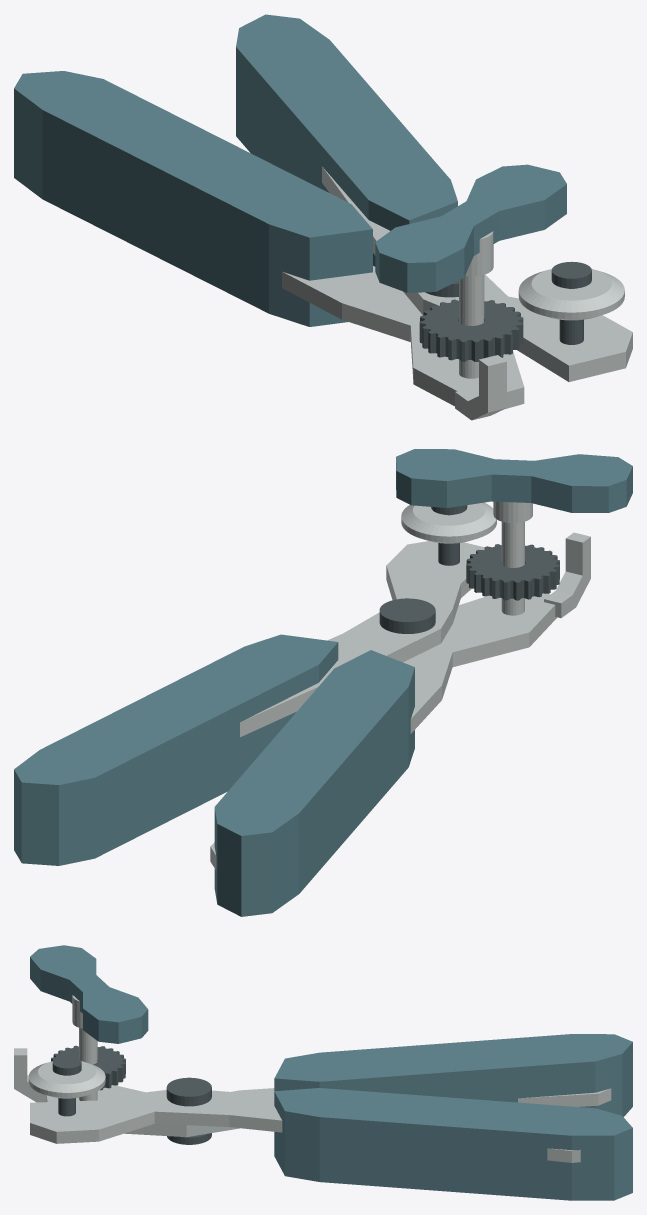
3 renders of one model, top to bottom at view 1: azimuth 30°, elevation 25°; view 2: azimuth 150°, elevation 25°; view 3: azimuth 270°, elevation 25°, orthographic. The views are drawn at different scales.
Visible parts, largest first — view 1: WholeSplayedPaddedGrip_-1, WholeSplayedPaddedGrip_1, WholeTwoLobedButterflyTurningKey, WholeFixedFeedCarrierAndLongTang, WholeMovingDiscCarrierAndLongTang, WholeAnnularScallopedFeedWheel, WholeBluntBeveledAnnularDisc, WholeFeedAxleAndKeyMount, WholeBentFrontRimGuide, WholeDiscRetainedAxle; view 2: WholeSplayedPaddedGrip_1, WholeSplayedPaddedGrip_-1, WholeTwoLobedButterflyTurningKey, WholeMovingDiscCarrierAndLongTang, WholeFixedFeedCarrierAndLongTang, WholeAnnularScallopedFeedWheel, WholeBluntBeveledAnnularDisc, WholeFeedAxleAndKeyMount, WholeBentFrontRimGuide, WholeRetainedMainHinge, WholeDiscRetainedAxle; view 3: WholeSplayedPaddedGrip_1, WholeSplayedPaddedGrip_-1, WholeMovingDiscCarrierAndLongTang, WholeTwoLobedButterflyTurningKey, WholeFixedFeedCarrierAndLongTang, WholeBluntBeveledAnnularDisc, WholeRetainedMainHinge, WholeAnnularScallopedFeedWheel, WholeFeedAxleAndKeyMount, WholeBentFrontRimGuide, WholeDiscRetainedAxle.
Boxes of the visible parts, x1,y1,x2,y2 form: WholeSplayedPaddedGrip_-1: (14,71,372,326); WholeSplayedPaddedGrip_1: (236,14,457,266); WholeTwoLobedButterflyTurningKey: (375,164,566,292); WholeFixedFeedCarrierAndLongTang: (282,266,524,408); WholeMovingDiscCarrierAndLongTang: (322,166,632,381); WholeAnnularScallopedFeedWheel: (419,299,523,361); WholeBluntBeveledAnnularDisc: (518,268,624,320); WholeFeedAxleAndKeyMount: (459,231,493,378); WholeBentFrontRimGuide: (455,355,506,420); WholeDiscRetainedAxle: (551,261,591,344); WholeSplayedPaddedGrip_1: (14,634,338,865); WholeSplayedPaddedGrip_-1: (214,650,414,916); WholeTwoLobedButterflyTurningKey: (396,449,632,512); WholeMovingDiscCarrierAndLongTang: (240,541,484,737); WholeFixedFeedCarrierAndLongTang: (210,593,556,870); WholeAnnularScallopedFeedWheel: (466,544,559,600); WholeBluntBeveledAnnularDisc: (401,502,496,543); WholeFeedAxleAndKeyMount: (493,501,532,615); WholeBentFrontRimGuide: (544,532,590,618); WholeRetainedMainHinge: (379,598,435,633); WholeDiscRetainedAxle: (431,505,467,565); WholeSplayedPaddedGrip_1: (274,1088,632,1200); WholeSplayedPaddedGrip_-1: (274,1034,632,1117); WholeMovingDiscCarrierAndLongTang: (30,1090,580,1162); WholeTwoLobedButterflyTurningKey: (30,945,148,1043); WholeFixedFeedCarrierAndLongTang: (46,1086,611,1137); WholeBluntBeveledAnnularDisc: (28,1061,105,1098); WholeRetainedMainHinge: (166,1077,211,1144); WholeAnnularScallopedFeedWheel: (51,1045,125,1090); WholeFeedAxleAndKeyMount: (72,995,97,1100); WholeBentFrontRimGuide: (14,1048,46,1102); WholeDiscRetainedAxle: (52,1056,81,1116).
Bounding box in the file's own units: 0.0953 × 0.062 × 0.233.
